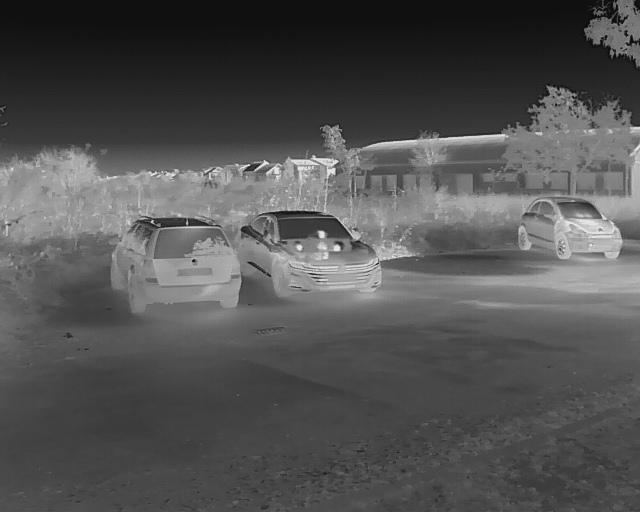drone: (279, 224, 358, 269)
